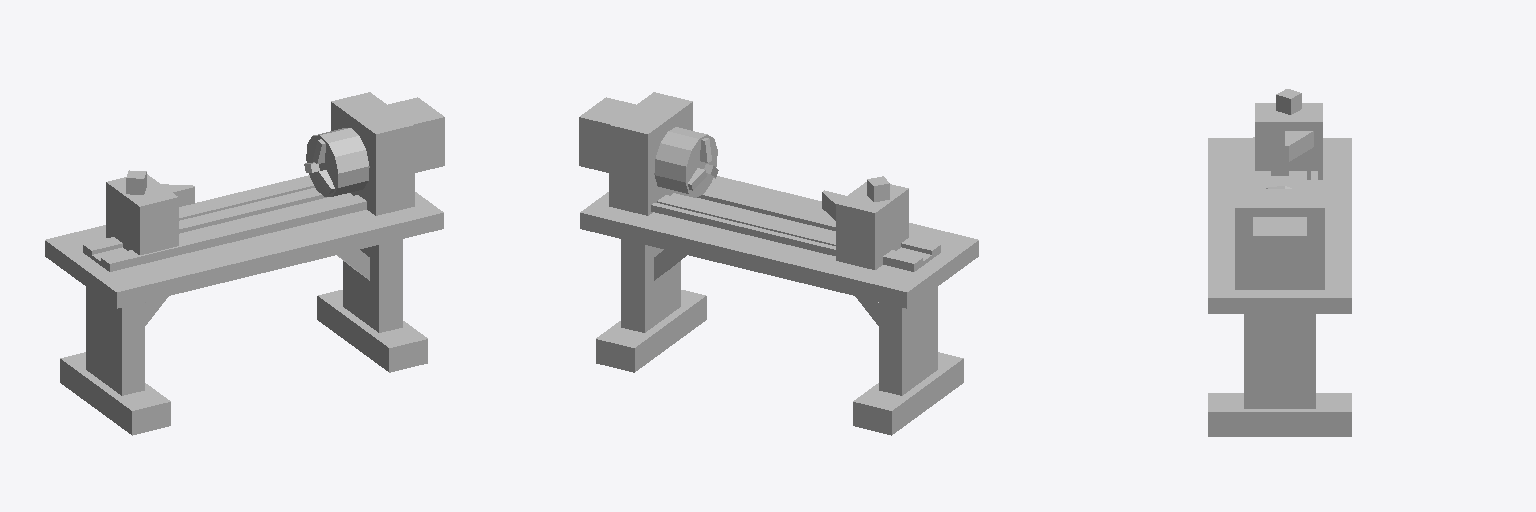
Rendered from lathe_mirrored.obj.
3 renders of one model, left to right at view 1: azimuth 30°, elevation 25°; view 2: azimuth 150°, elevation 25°; view 3: azimuth 270°, elevation 25°, orthographic.
Visible parts, largest first — view 1: cube, cylinder; view 2: cube, cylinder; view 3: cube.
Part boxes in pixels (x1,y1,x2,y2): cube: (45,92,444,435); cylinder: (306,128,369,196); cube: (579,92,978,435); cylinder: (654,127,717,197); cube: (1208,89,1351,436).
Size of the model in its own units: 2.81 by 1.75 by 1.